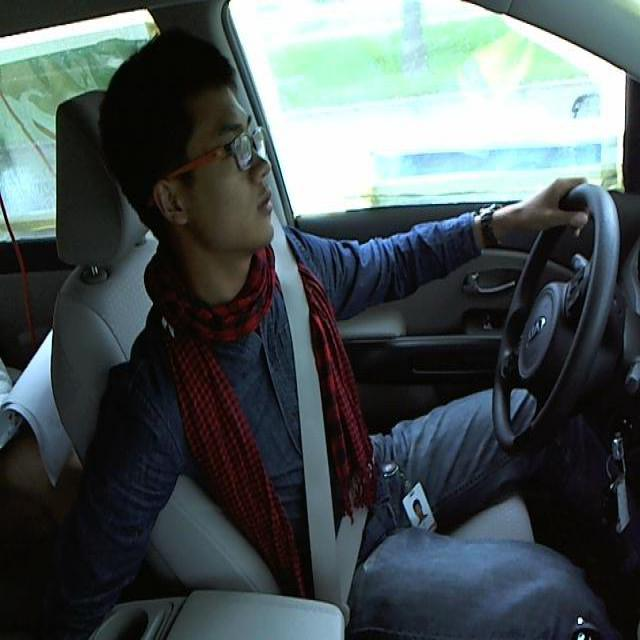seatbelt: (271, 268, 375, 595)
